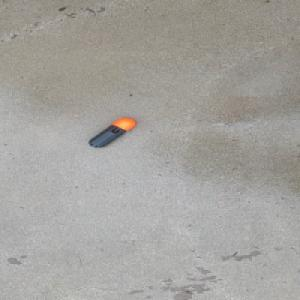PlasticPart: (87, 117, 136, 148)
